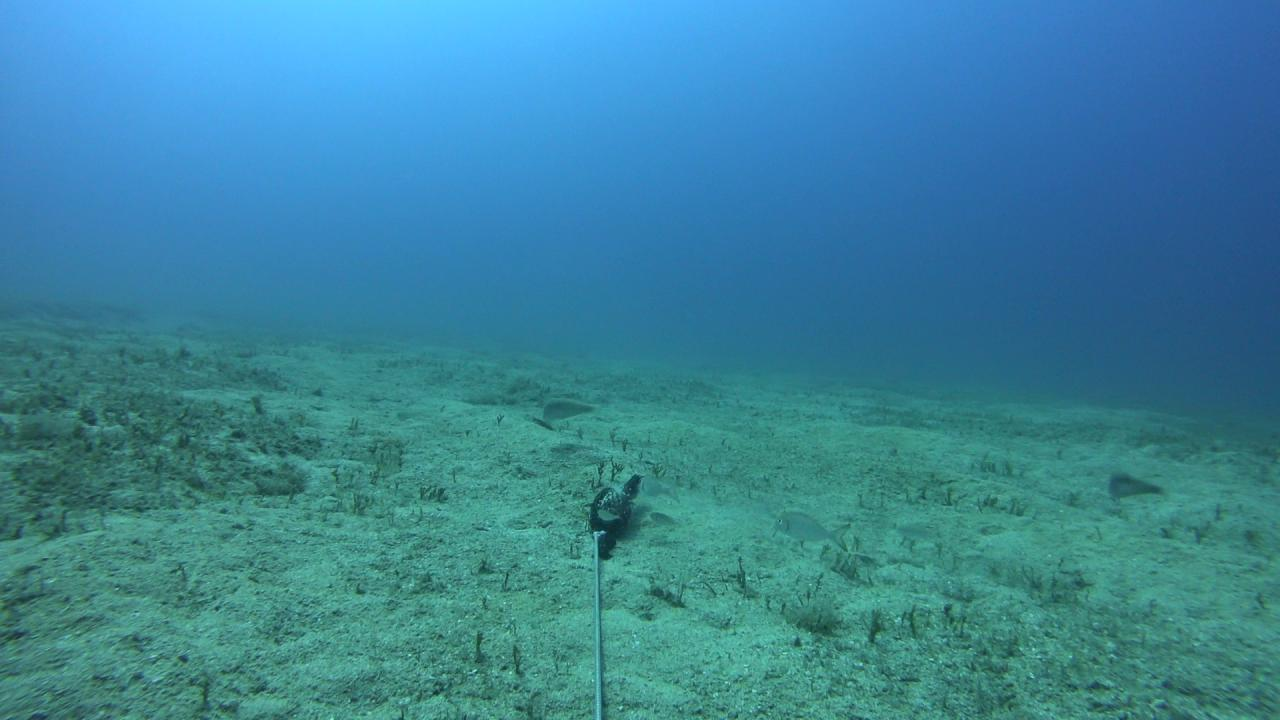pagellus: (774, 511, 852, 554), (639, 476, 685, 505), (653, 512, 687, 531), (594, 507, 622, 523)
raor: (1105, 474, 1171, 503), (542, 395, 604, 424)
